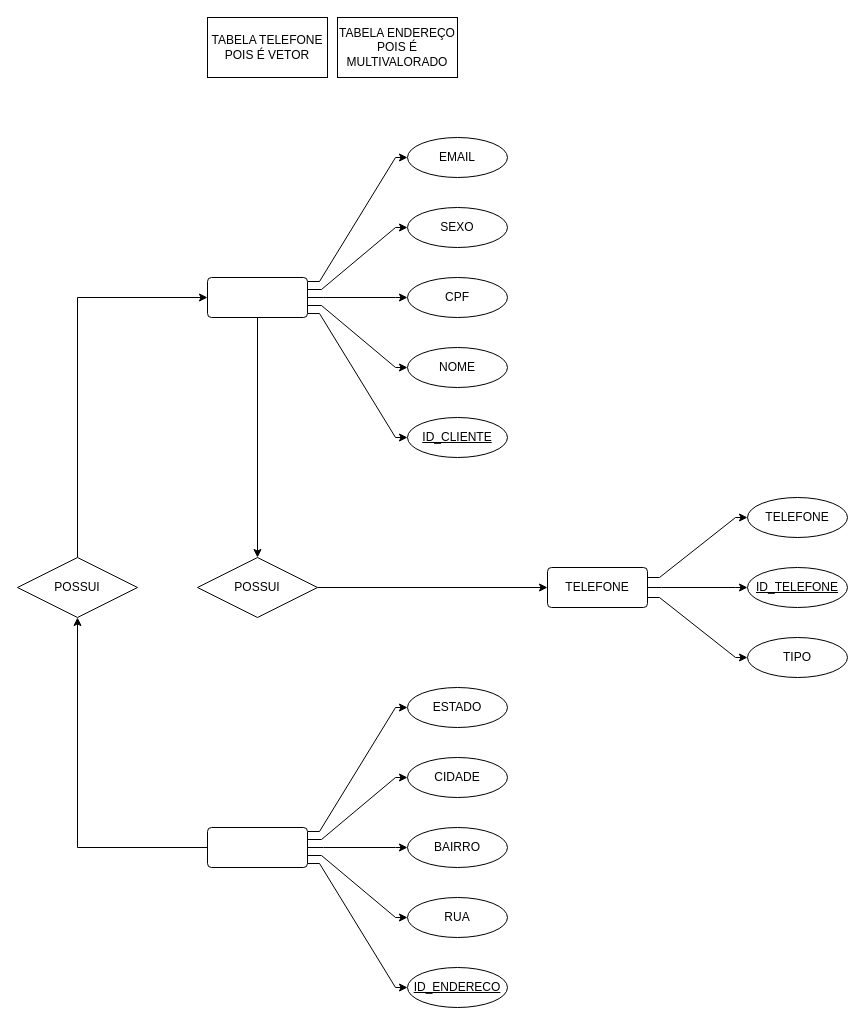
Some shapes in this 865 by 1025 pixel diagram are drawn without their labels. Each missing label, with the centre of its shape:
"CLIENTE" goes at (x=257, y=297).
"ENDERECO" goes at (x=257, y=847).
